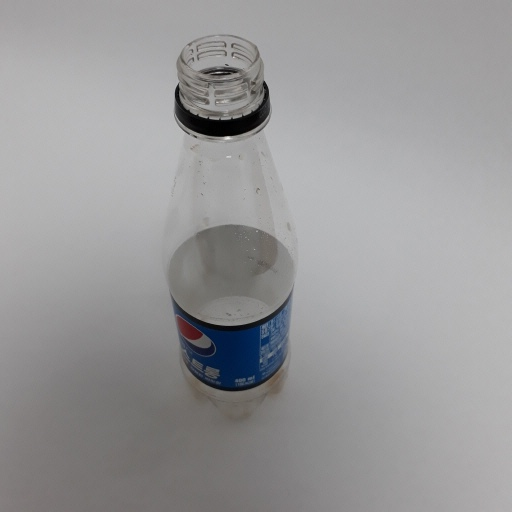Plastic_0: (159, 32, 301, 427)
